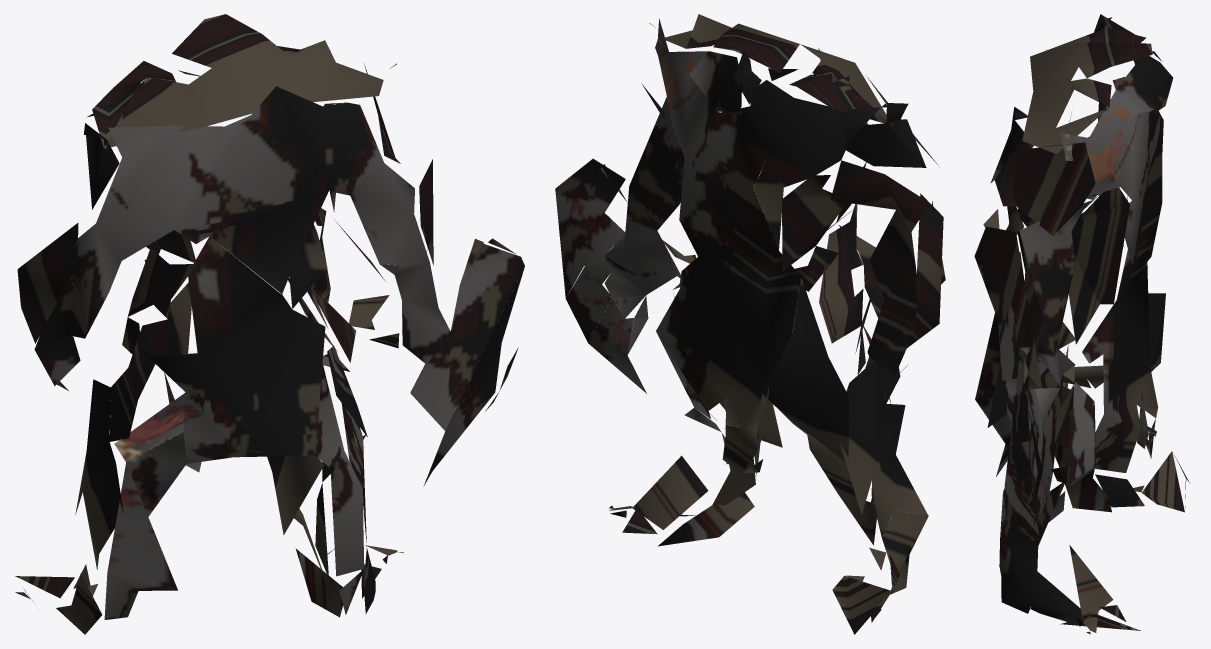
3 views of the same model, side by side, from view 1: azimuth 30°, elevation 25°; view 2: azimuth 150°, elevation 25°; view 3: azimuth 270°, elevation 25° (orthographic). The views are drawn at different scales.
Parts seen in each view (by area): view 1: body.002; view 2: body.002; view 3: body.002.
Part boxes in pixels (left/top/right/bottom): body.002: left=15, top=14, right=524, bottom=634; body.002: left=555, top=14, right=945, bottom=634; body.002: left=974, top=14, right=1189, bottom=634.
Bounding box in the file's own units: 1.66 × 2.02 × 0.7538.
Materials: 1 (1 with a texture image).
